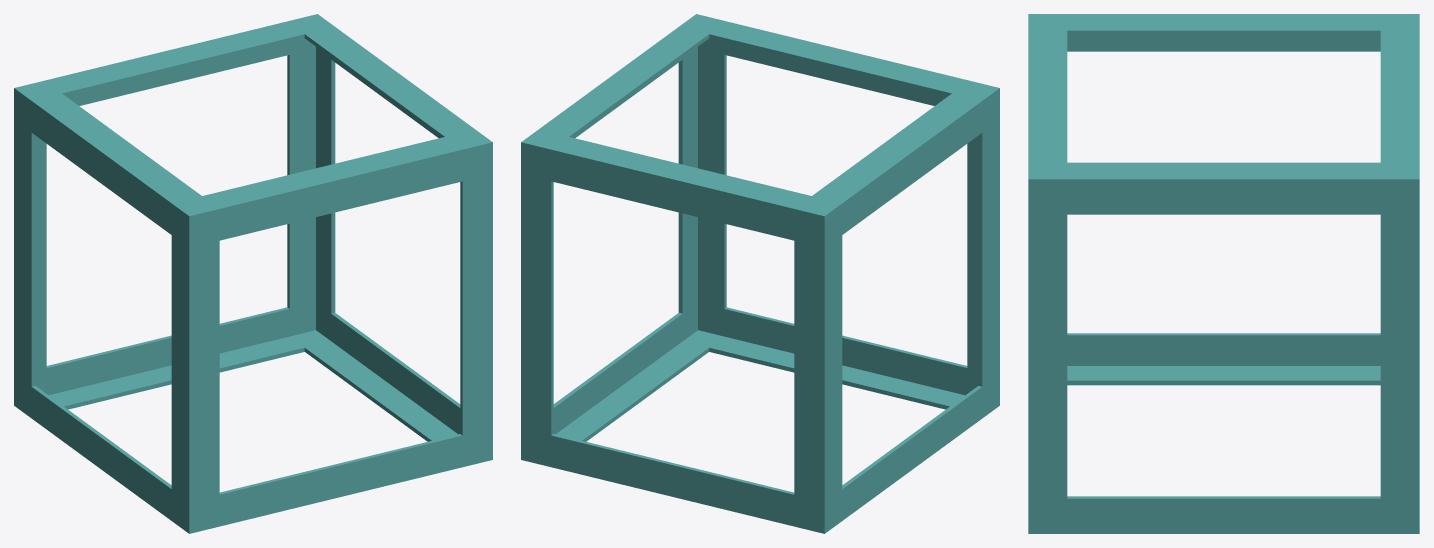
The model's file is CubeSkeleton.fbx.
The picture shows the model from 3 angles, left to right: view 1: azimuth 30°, elevation 25°; view 2: azimuth 150°, elevation 25°; view 3: azimuth 270°, elevation 25°; orthographic projection. The views are drawn at different scales.
Visible parts, largest first — view 1: pCube10; view 2: pCube10; view 3: pCube10.
Boxes of the visible parts, x1,y1,x2,y2 form: pCube10: (14,14,492,533); pCube10: (521,14,999,533); pCube10: (1028,14,1419,533).
Size of the model in its own units: 0.2128 by 0.2128 by 0.2128.
